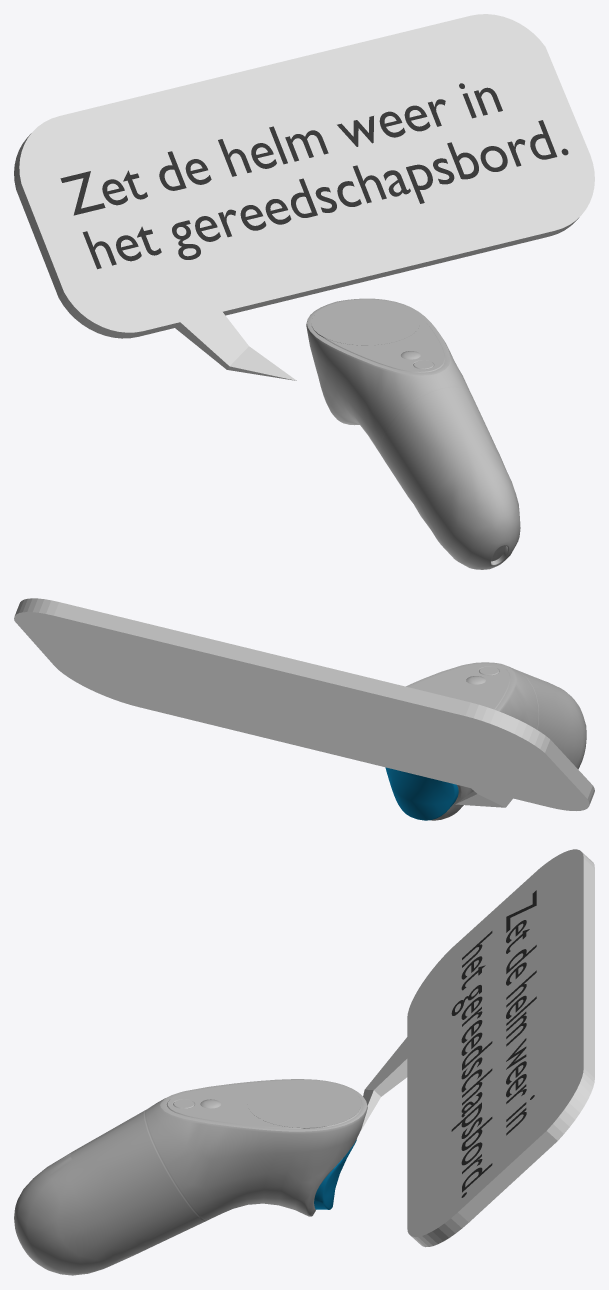
Rendered from REMOTE-tutorial-3-put-helmet-down.fbx.
3 views of the same model, one above another, from view 1: azimuth 30°, elevation 25°; view 2: azimuth 150°, elevation 25°; view 3: azimuth 270°, elevation 25° (orthographic). The views are drawn at different scales.
Parts seen in each view (by area): view 1: Curve, Circle, Text; view 2: Curve, Circle; view 3: Curve, Circle, Text.
Part boxes in pixels (box(x1,y1,x2,y2)): Curve: box(14, 14, 594, 380); Circle: box(306, 298, 520, 569); Text: box(60, 83, 568, 269); Curve: box(14, 598, 594, 810); Circle: box(385, 662, 586, 820); Curve: box(360, 849, 594, 1247); Circle: box(14, 1079, 367, 1275); Text: box(451, 890, 536, 1197).
Size of the model in its own units: 426 by 241 by 388.
